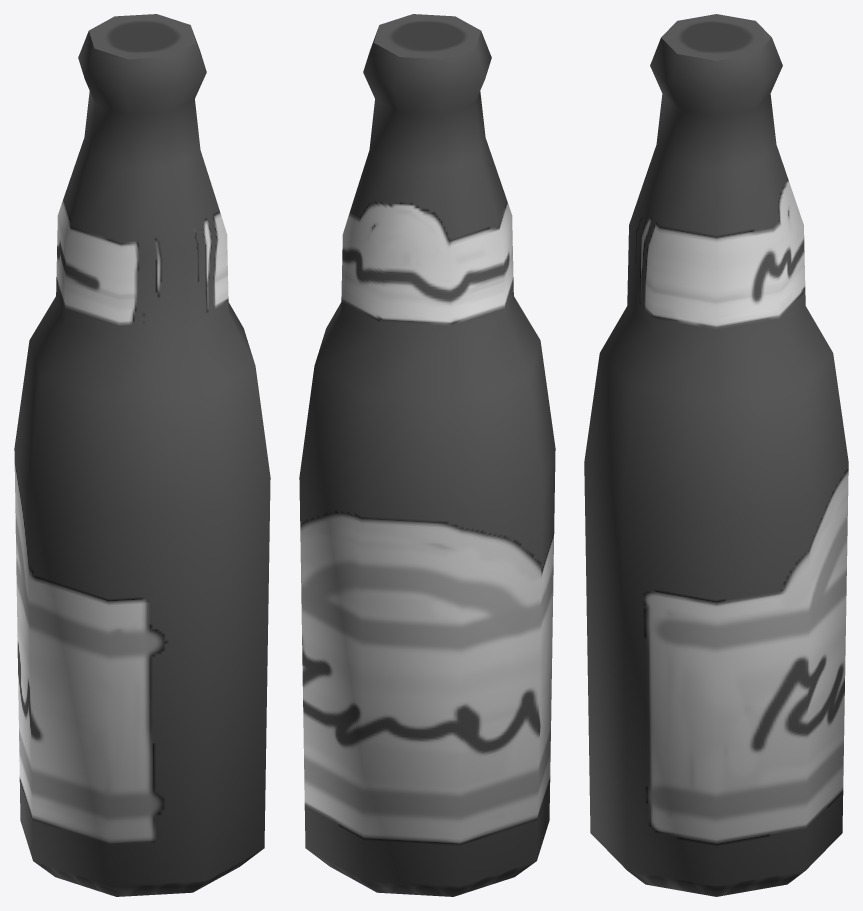
The model's file is obj_BeerBottle.fbx.
The picture shows the model from 3 angles, left to right: view 1: azimuth 30°, elevation 25°; view 2: azimuth 150°, elevation 25°; view 3: azimuth 270°, elevation 25°; orthographic projection.
Parts seen in each view (by area): view 1: obj_BeerBottle; view 2: obj_BeerBottle; view 3: obj_BeerBottle.
Boxes of the visible parts, x1=… form: obj_BeerBottle: x1=14, y1=14, x2=270, y2=896; obj_BeerBottle: x1=299, y1=14, x2=555, y2=896; obj_BeerBottle: x1=584, y1=14, x2=848, y2=896.
Bounding box in the file's own units: 0.0733 × 0.2499 × 0.0733.
2 materials, 2 textured.
